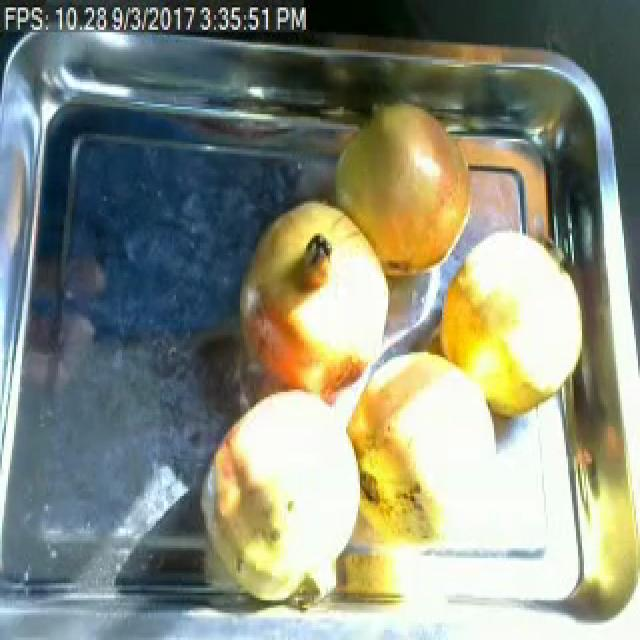fruit: (188, 370, 382, 622), (334, 330, 522, 566), (226, 189, 406, 414), (428, 218, 592, 434), (320, 90, 484, 290)
